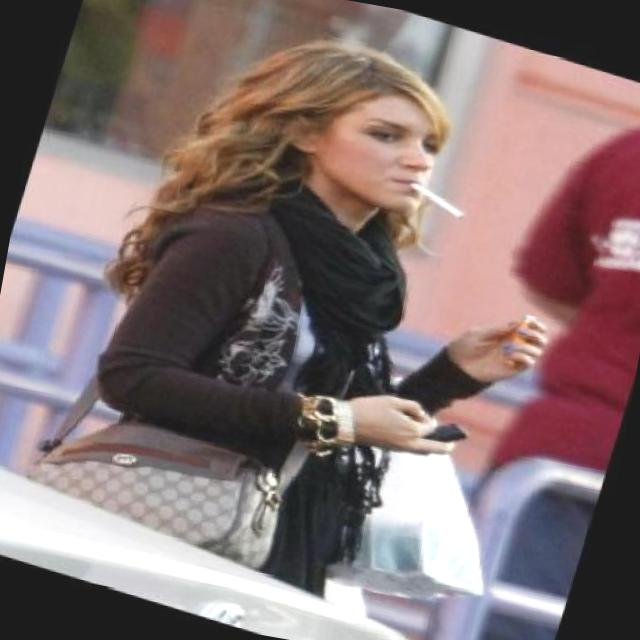smoke: (394, 179, 479, 226)
